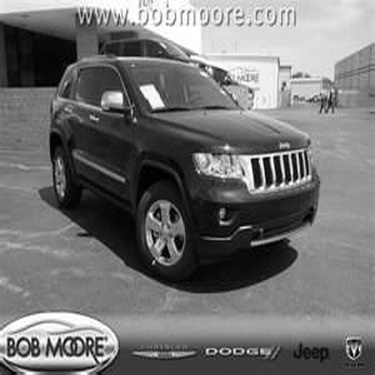car: (36, 52, 327, 285)
